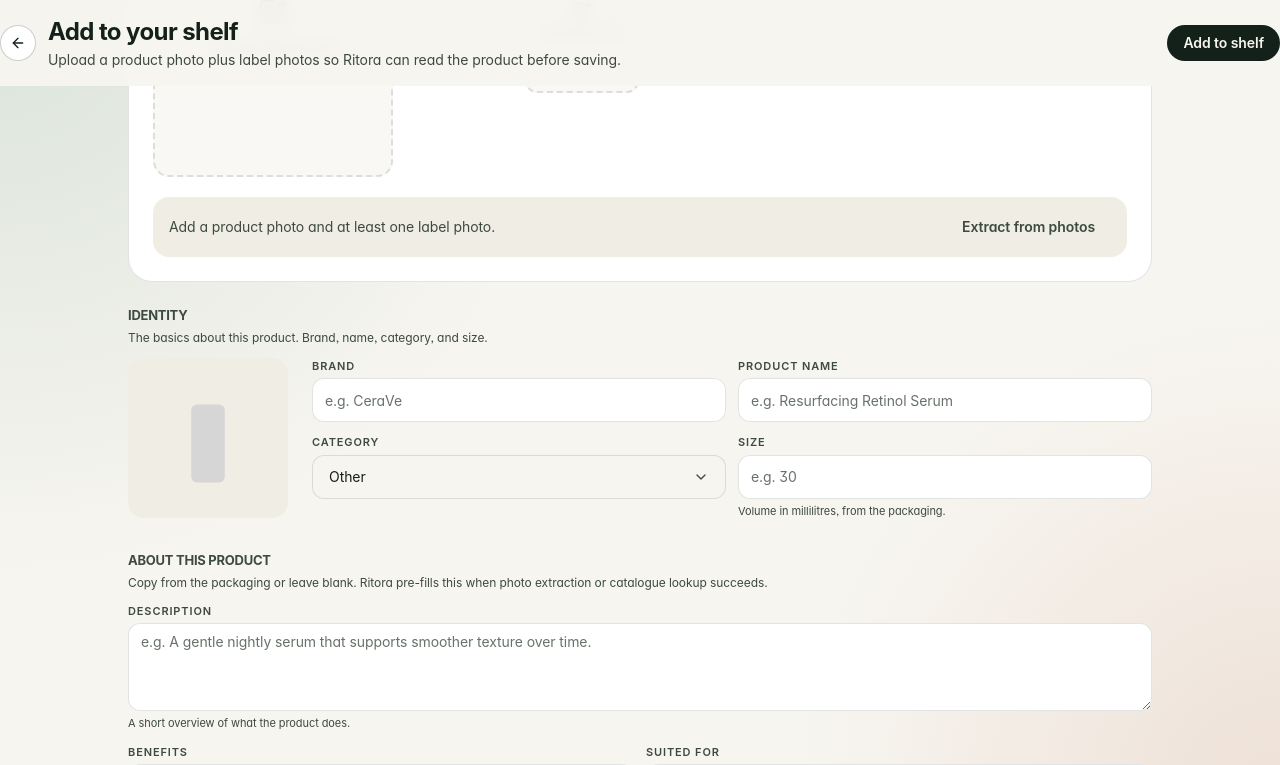
Test case: AddProductPage unsaved changes guard › opens the discard dialog when the back arrow is clicked with dirty state
This screenshot has width=1280, height=765.
(page scrolled)
In the field labelled "Brand": {"x": 519, "y": 400} [312, 378, 726, 422], type "CeraVe"
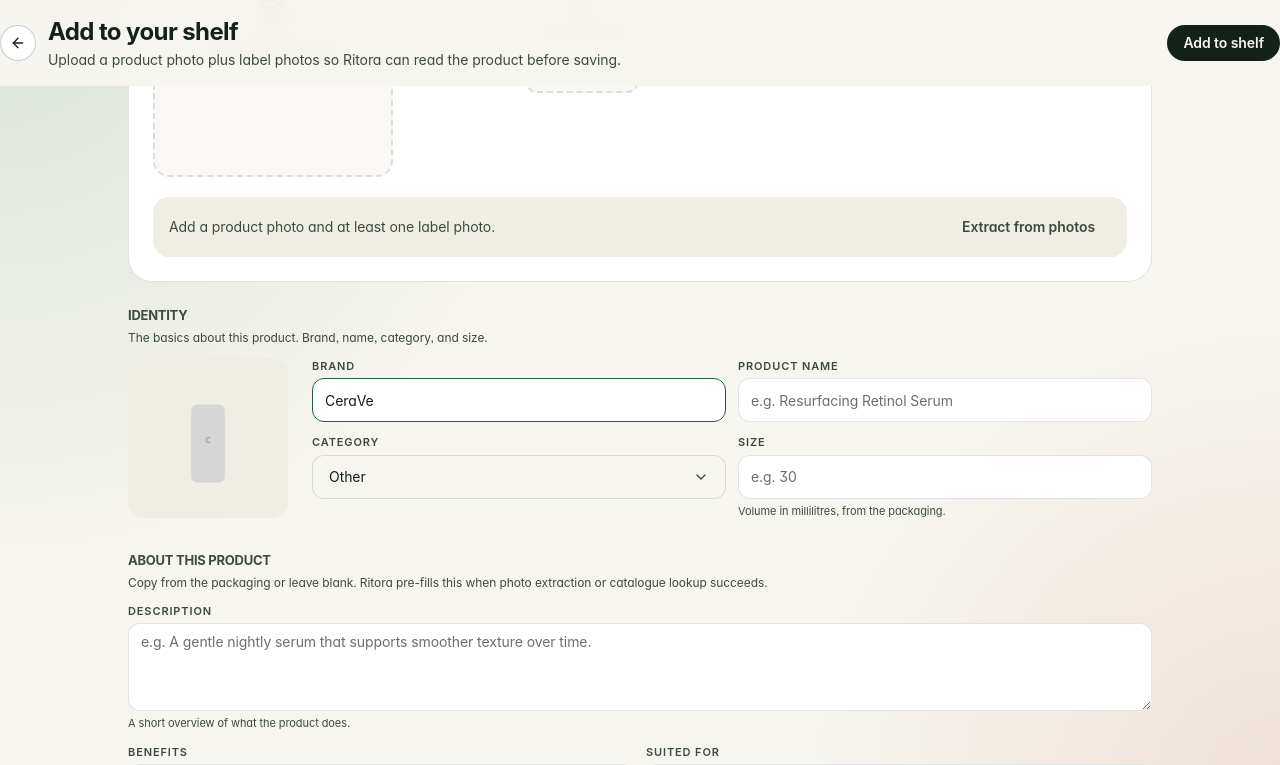
Click the link named "back to shelf": {"x": 18, "y": 43} [0, 25, 36, 61]
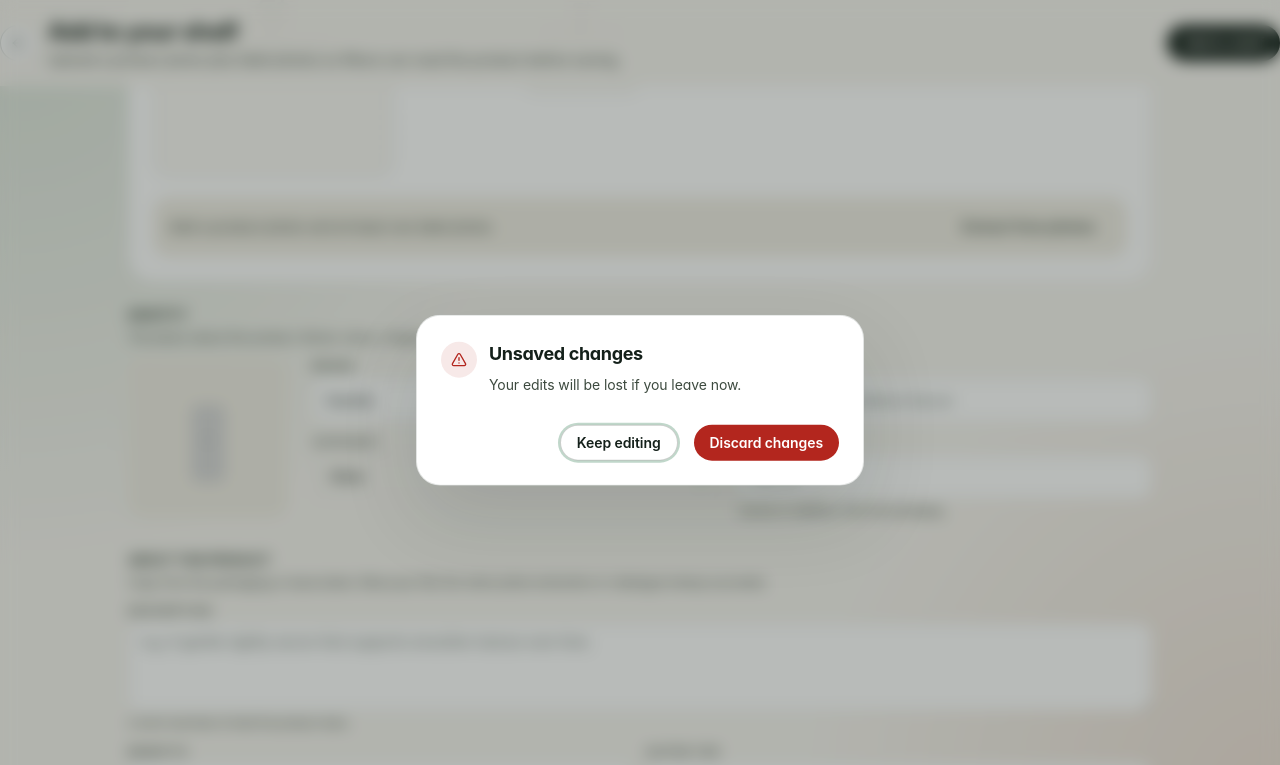
Expected: the heading "Unsaved changes" is shown, [489, 343, 643, 364]
Expected: the button "Keep editing" is shown, [560, 424, 678, 460]
